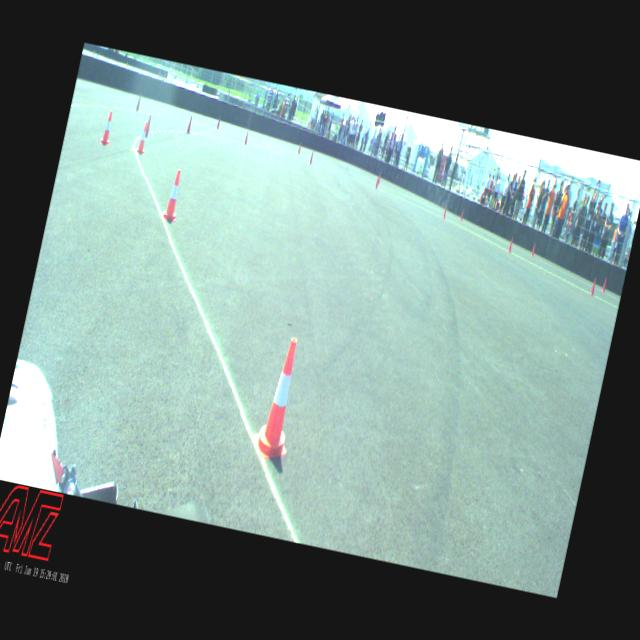orange_cone: (250, 333, 310, 462), (162, 168, 186, 224), (100, 110, 116, 146), (135, 121, 150, 154)
unknown_cone: (144, 113, 152, 137), (185, 115, 194, 134), (507, 236, 514, 252), (590, 277, 596, 295), (243, 129, 250, 144), (135, 95, 141, 111), (600, 276, 606, 291), (530, 242, 536, 256), (442, 204, 448, 218), (308, 151, 314, 164), (216, 114, 221, 129), (374, 176, 380, 188), (376, 172, 382, 184), (297, 142, 302, 154), (459, 208, 464, 220)
